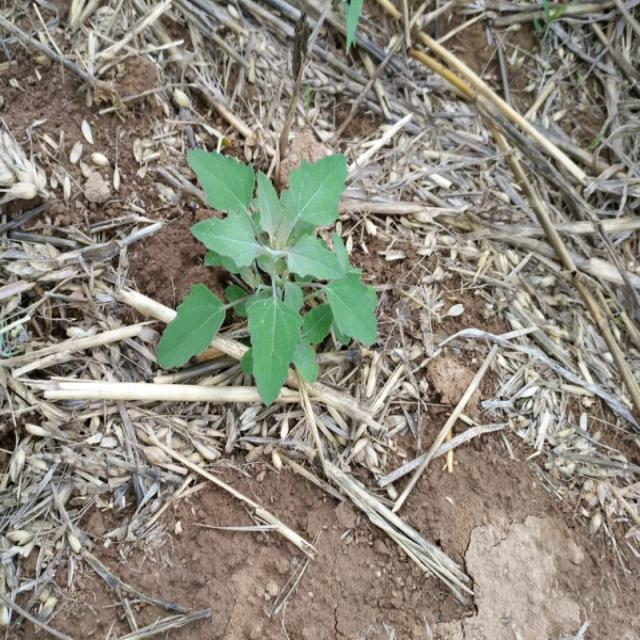goosefoots: (153, 138, 390, 388)
